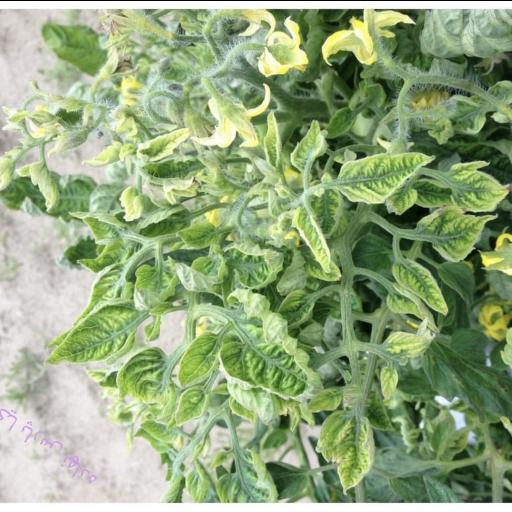disease_tomato: (216, 312, 322, 400), (42, 302, 142, 366), (314, 406, 379, 494), (337, 150, 433, 204), (414, 205, 500, 259), (390, 256, 454, 314), (445, 158, 512, 213), (114, 346, 168, 406), (178, 330, 220, 388), (292, 116, 330, 166)
